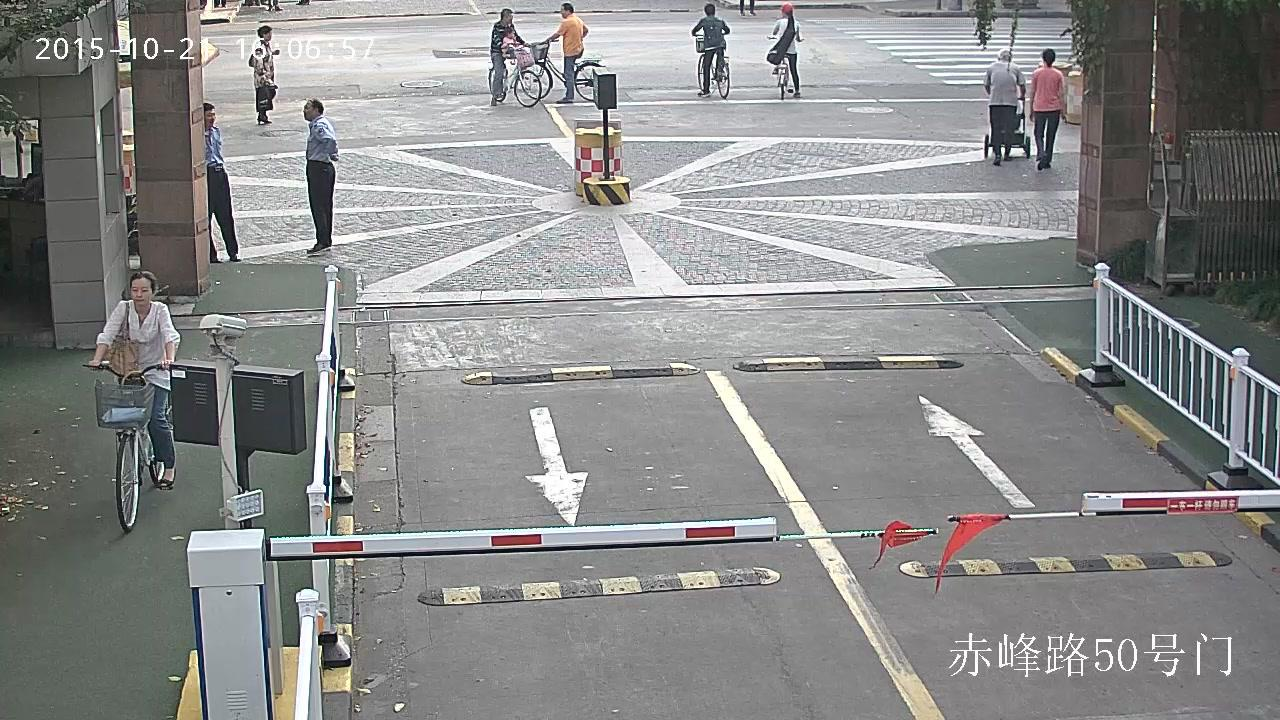person: (86, 271, 183, 532), (88, 271, 181, 491), (521, 2, 607, 104), (201, 103, 239, 264), (302, 97, 339, 253), (486, 7, 542, 107), (983, 47, 1030, 159), (983, 47, 1024, 165), (1027, 47, 1064, 170), (544, 2, 587, 104), (691, 3, 730, 99), (489, 9, 527, 106), (691, 3, 729, 97), (766, 3, 803, 99), (768, 3, 801, 98), (249, 26, 278, 124), (501, 29, 519, 72)
